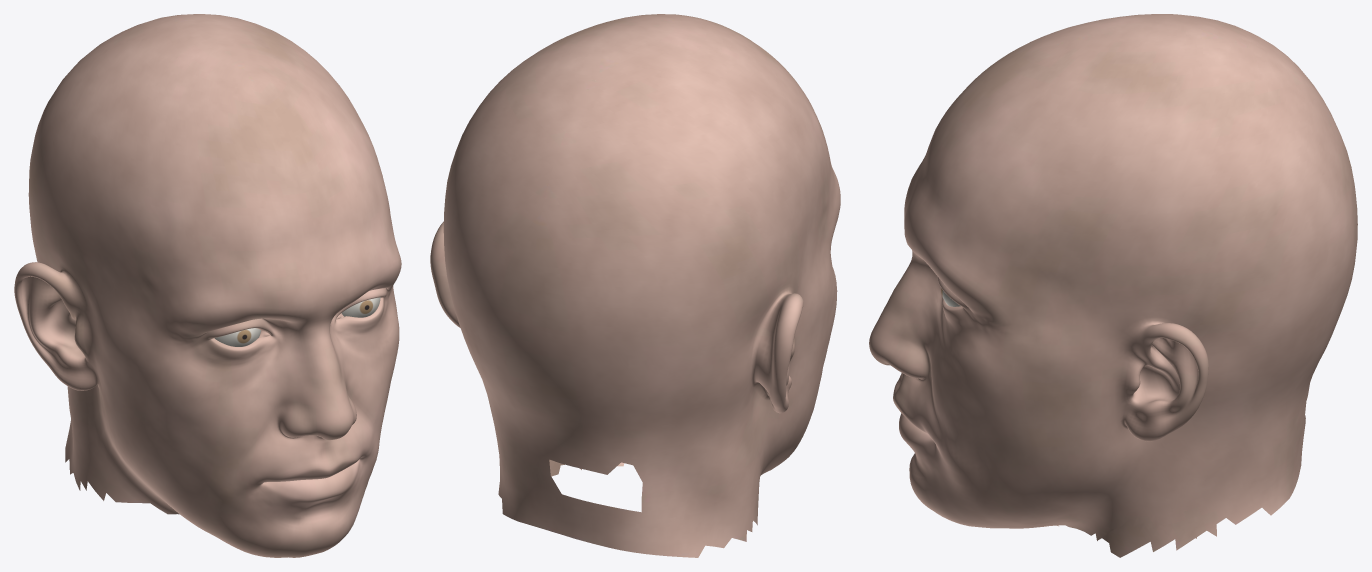
File: metahuman_head.glb
3 renders of one model, left to right at view 1: azimuth 30°, elevation 25°; view 2: azimuth 150°, elevation 25°; view 3: azimuth 270°, elevation 25°, orthographic. The views are drawn at different scales.
Visible parts, largest first — view 1: head_lod0_ORIGINAL, eyeRight_ORIGINAL, eyeLeft_ORIGINAL; view 2: head_lod0_ORIGINAL; view 3: head_lod0_ORIGINAL.
Boxes of the visible parts, <box> form: head_lod0_ORIGINAL: <box>14,14,401,557</box>; eyeRight_ORIGINAL: <box>214,328,261,346</box>; eyeLeft_ORIGINAL: <box>342,297,380,317</box>; head_lod0_ORIGINAL: <box>430,14,840,557</box>; head_lod0_ORIGINAL: <box>869,14,1357,557</box>.
Bounding box in the file's own units: 0.5122 × 0.65 × 0.5987.
3 materials, 2 textured.
